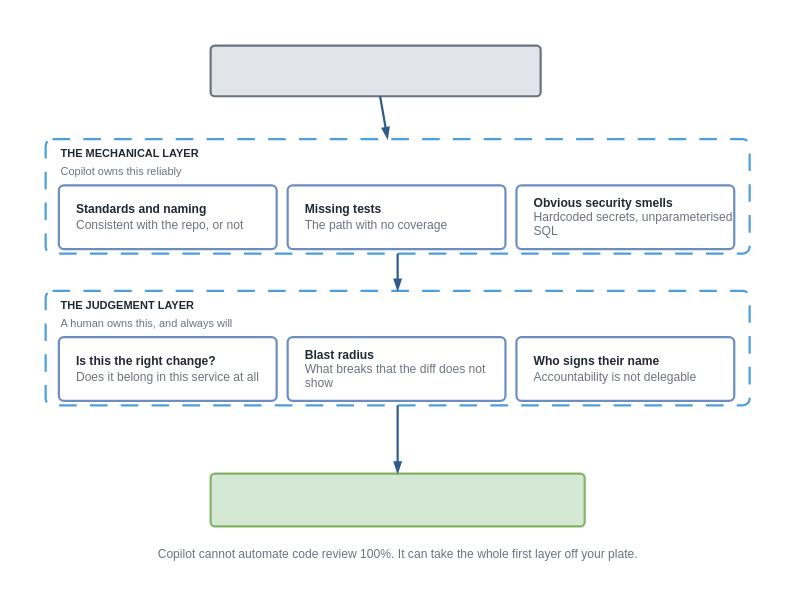
Image size: 794x611. Some labels were removed from this diagram. Each missing label, with the centre of its shape:
"A pull request arrives" goes at point (375, 70).
"A review that is faster AND still owned" goes at point (397, 499).
